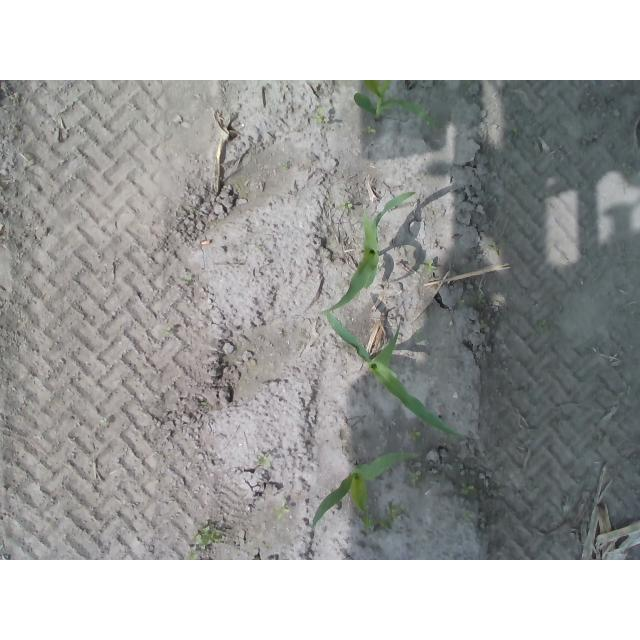Maize: (322, 312, 465, 439), (323, 191, 416, 318), (312, 450, 420, 529), (354, 80, 435, 125)
Weeds: (383, 499, 409, 529), (191, 526, 221, 549), (272, 505, 290, 520), (459, 481, 477, 496), (409, 470, 424, 487), (409, 427, 424, 442), (315, 109, 329, 124), (366, 517, 379, 532), (183, 550, 200, 560), (362, 127, 379, 136), (425, 260, 436, 273), (257, 455, 271, 465), (338, 202, 354, 210)
